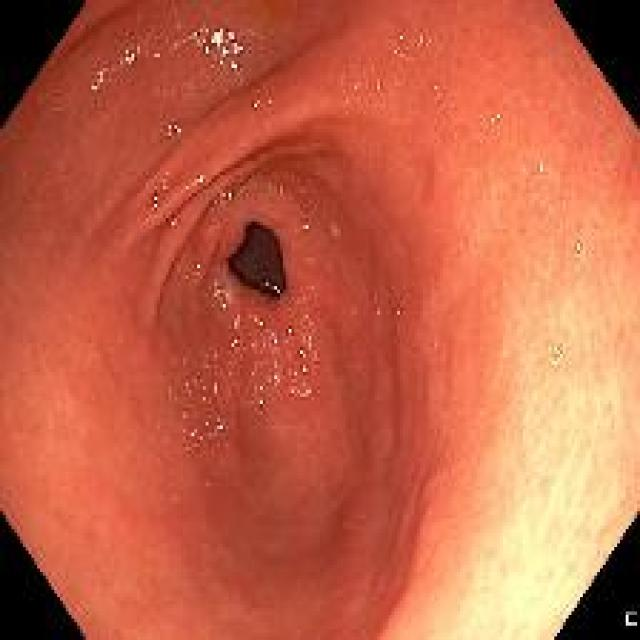bubbles: (543, 339, 563, 365), (260, 279, 280, 296), (572, 239, 584, 262), (218, 188, 236, 203), (298, 217, 312, 236), (274, 182, 286, 194)
contrast: (224, 223, 291, 299)
saturation: (448, 264, 631, 635)
specularity: (187, 21, 248, 75), (87, 66, 109, 97), (117, 43, 140, 70), (213, 281, 232, 312), (253, 381, 268, 411), (164, 120, 183, 140), (146, 191, 166, 210), (269, 360, 282, 388), (250, 99, 265, 115), (228, 335, 241, 352), (232, 313, 243, 333), (270, 331, 281, 351), (297, 364, 311, 378), (283, 324, 295, 339), (296, 346, 309, 359), (213, 419, 224, 433), (256, 316, 266, 329), (374, 80, 382, 93), (554, 343, 560, 359), (195, 173, 205, 182), (166, 219, 176, 227), (538, 164, 545, 175), (575, 242, 582, 253), (302, 387, 309, 397), (190, 429, 196, 436), (272, 286, 277, 290)
